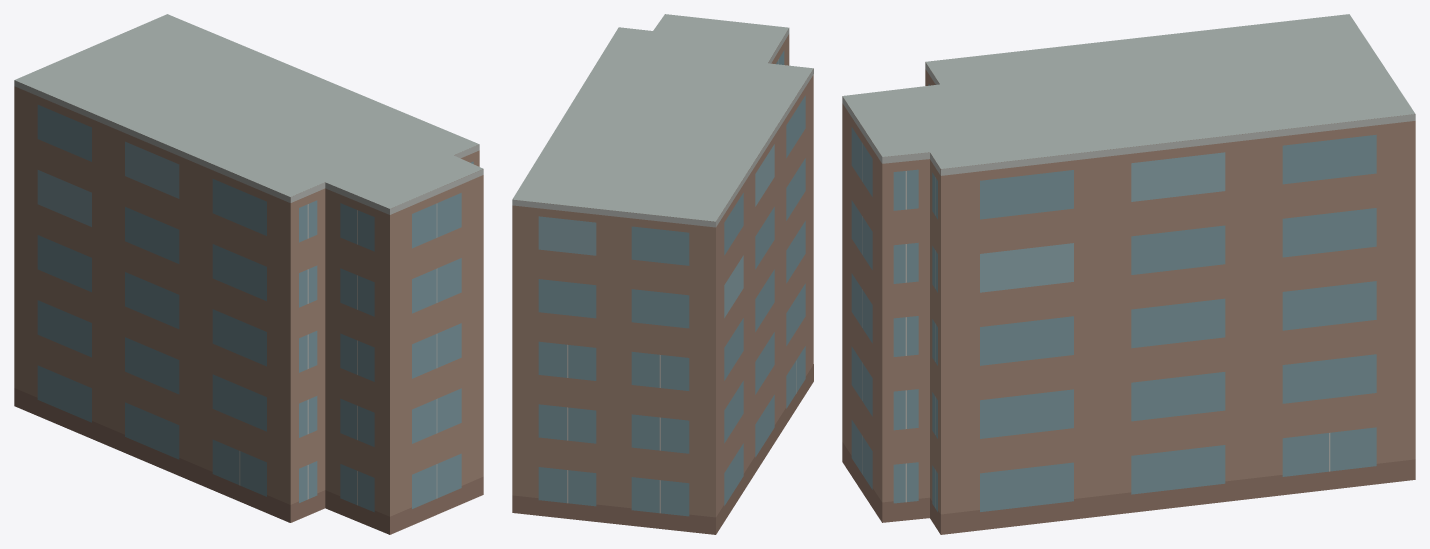
Rendered from survey-upis-32715182.glb.
The picture shows the model from 3 angles, left to right: view 1: azimuth 30°, elevation 25°; view 2: azimuth 150°, elevation 25°; view 3: azimuth 270°, elevation 25°; orthographic projection. The views are drawn at different scales.
Visible parts, largest first — view 1: survey-upis-32715182.tmp; view 2: survey-upis-32715182.tmp; view 3: survey-upis-32715182.tmp.
Part boxes in pixels (box(x1,y1,x2,y2)): survey-upis-32715182.tmp: box(14, 14, 483, 534); survey-upis-32715182.tmp: box(512, 14, 813, 534); survey-upis-32715182.tmp: box(842, 14, 1415, 534).
Size of the model in its own units: 11.92 by 13.1 by 18.62.
